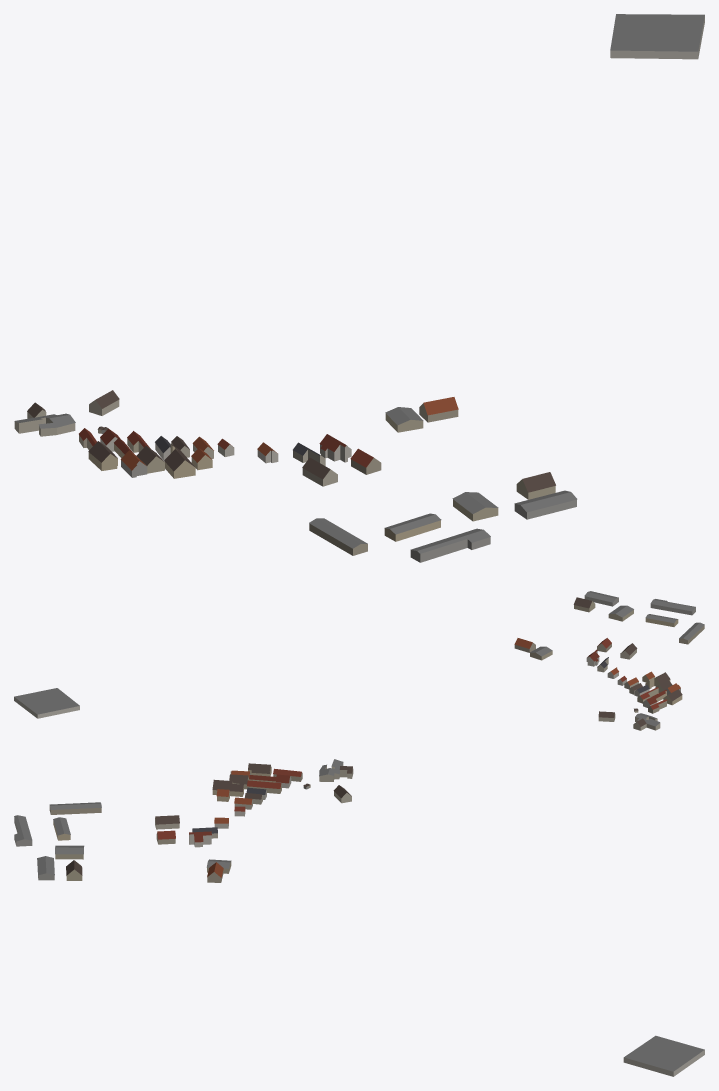
3 views of the same model, one above another, from view 1: azimuth 30°, elevation 25°; view 2: azimuth 150°, elevation 25°; view 3: azimuth 270°, elevation 25° (orthographic). The views are drawn at different scales.
Visible parts, largest first — view 1: buildings; view 2: buildings; view 3: buildings.
Part boxes in pixels (left/top/right/bottom): buildings: left=14, top=14, right=704, bottom=562; buildings: left=14, top=591, right=704, bottom=730; buildings: left=14, top=759, right=704, bottom=1076.
Bounding box in the file's own units: 770 × 20.31 × 719.
